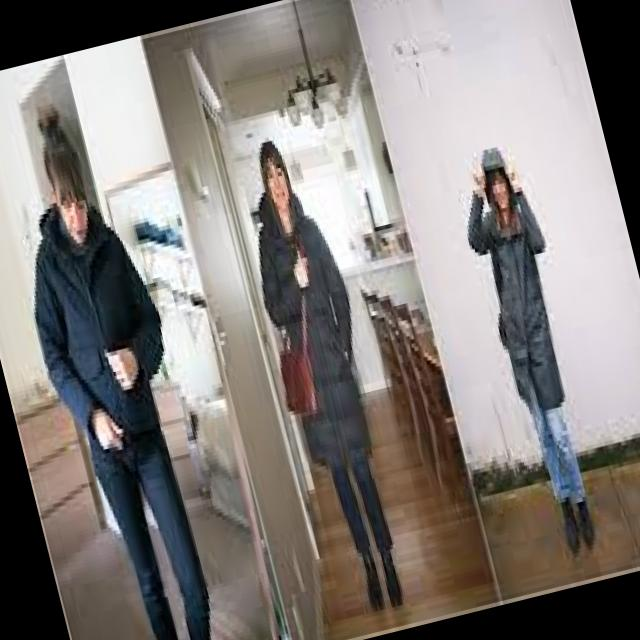Jacket: (4, 196, 200, 487), (238, 198, 387, 478), (456, 186, 592, 424)
